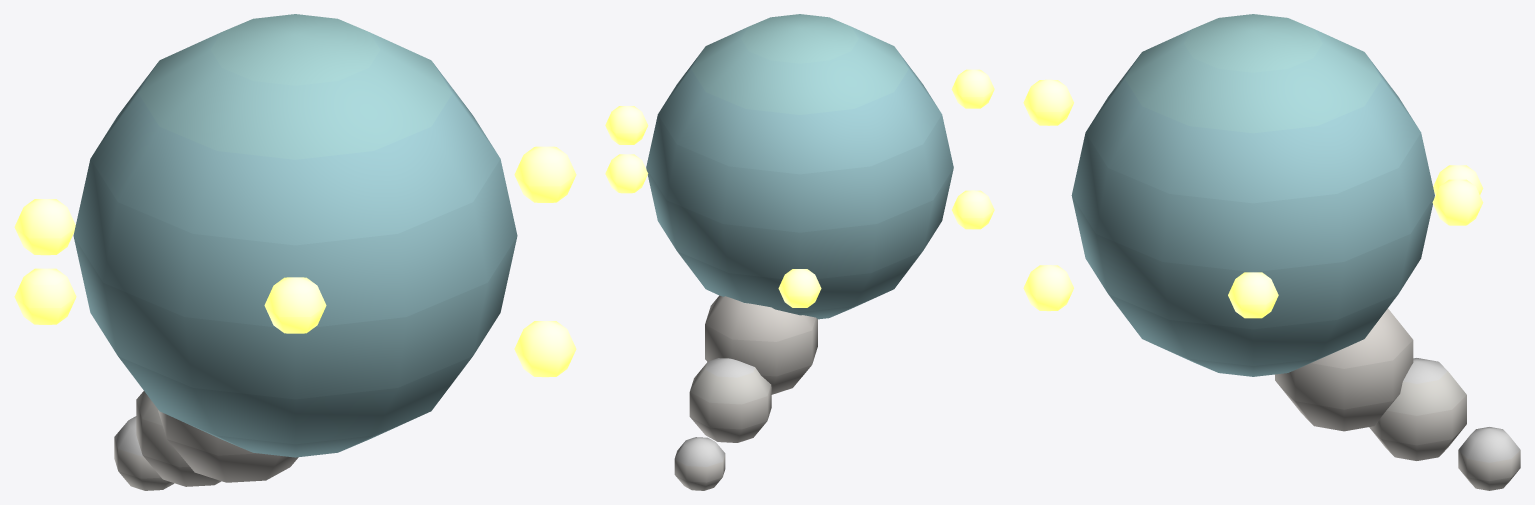
The model's file is monster_storm_spirit.glb.
3 views of the same model, side by side, from view 1: azimuth 30°, elevation 25°; view 2: azimuth 150°, elevation 25°; view 3: azimuth 270°, elevation 25° (orthographic). The views are drawn at different scales.
Parts seen in each view (by area): view 1: body_t0_bob4_palette, body_t0_bob4_glow_gold, tail_t0_palette; view 2: body_t0_bob4_palette, tail_t0_palette, body_t0_bob4_glow_gold; view 3: body_t0_bob4_palette, tail_t0_palette, body_t0_bob4_glow_gold.
Boxes of the visible parts, x1,y1,x2,y2 form: body_t0_bob4_palette: (73, 14, 517, 457); body_t0_bob4_glow_gold: (14, 146, 576, 377); tail_t0_palette: (114, 391, 298, 490); body_t0_bob4_palette: (646, 14, 953, 319); tail_t0_palette: (674, 295, 817, 490); body_t0_bob4_glow_gold: (605, 69, 994, 307); body_t0_bob4_palette: (1071, 14, 1434, 376); tail_t0_palette: (1275, 308, 1520, 490); body_t0_bob4_glow_gold: (1023, 79, 1483, 318).
Bounding box in the file's own units: 0.2842 × 0.278 × 0.2737.
